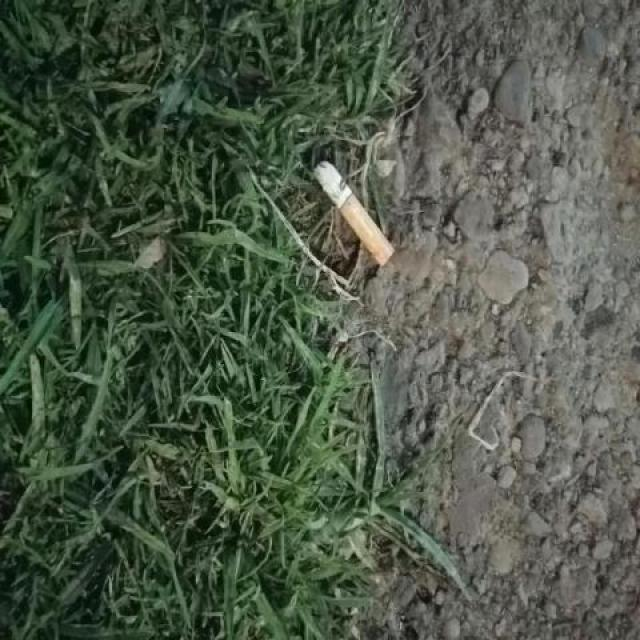non-organic waste: (306, 156, 398, 268)
